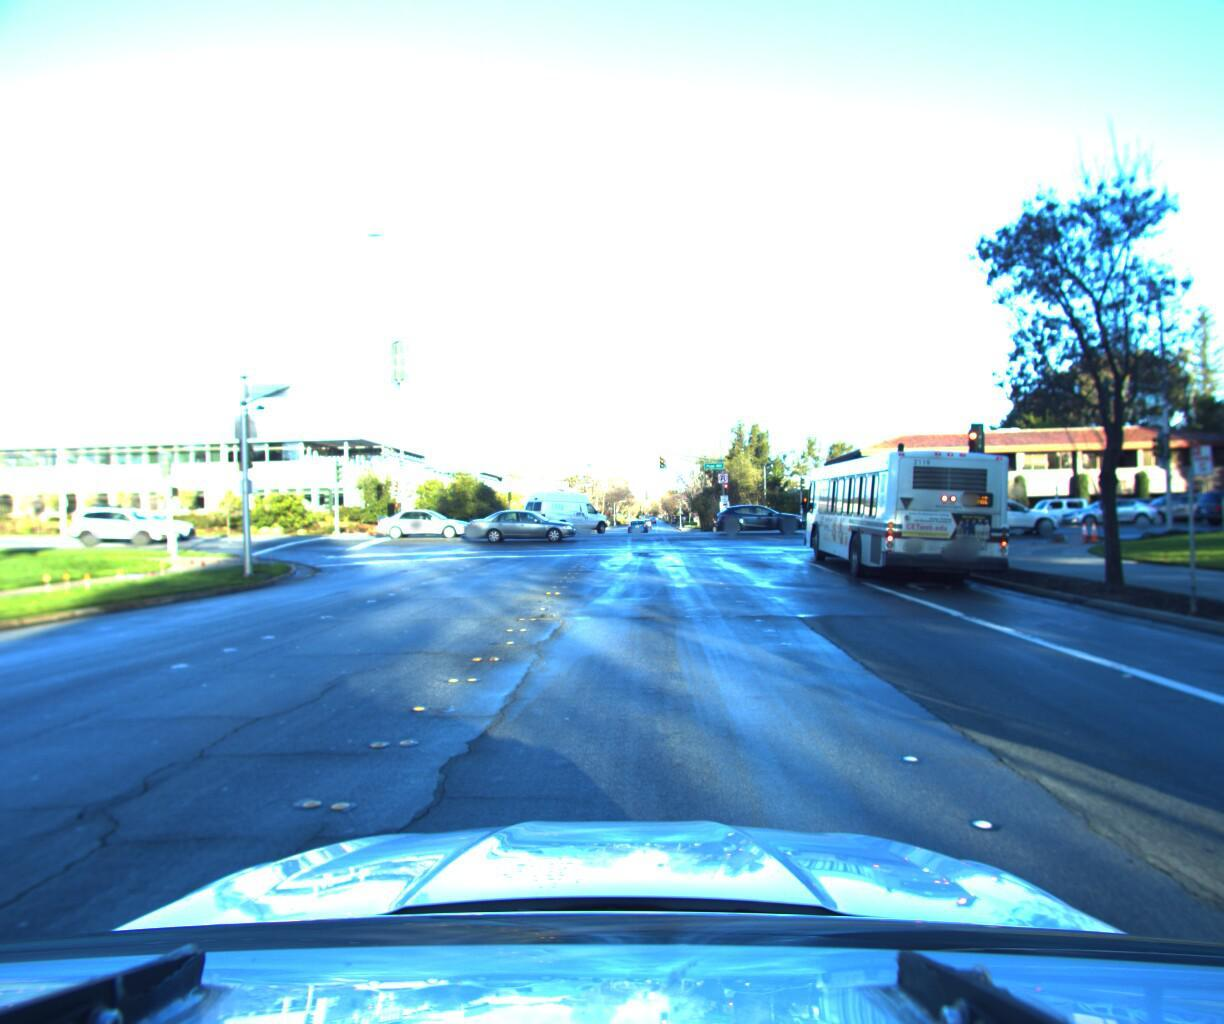bus: (794, 419, 1015, 587)
car: (71, 505, 190, 549), (943, 489, 1060, 529), (515, 490, 615, 535), (470, 504, 579, 542), (373, 501, 477, 540), (1116, 480, 1220, 517), (1052, 486, 1158, 521), (103, 508, 209, 541), (712, 498, 804, 534), (1007, 487, 1097, 519), (1184, 479, 1224, 519), (625, 513, 648, 532)
